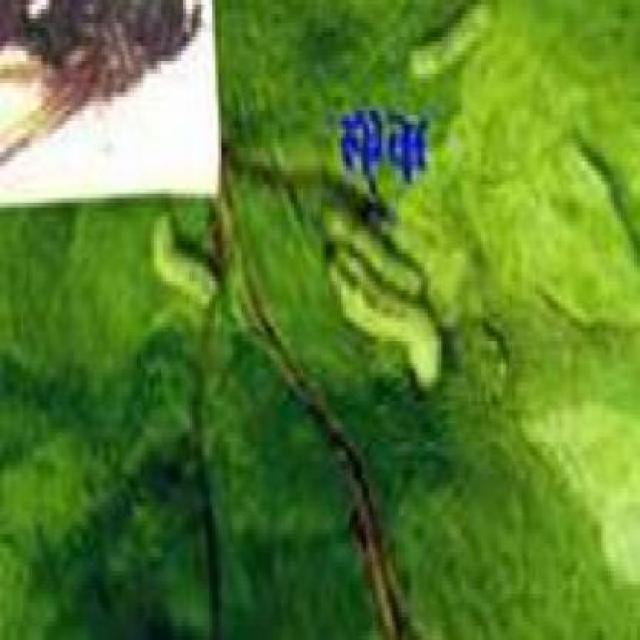whorl-maggot: (316, 185, 449, 398), (143, 202, 217, 336), (404, 0, 495, 98)
